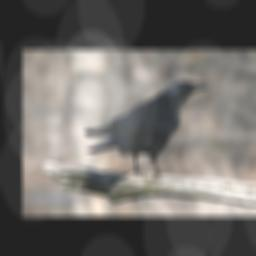Crow: (84, 79, 211, 182)
